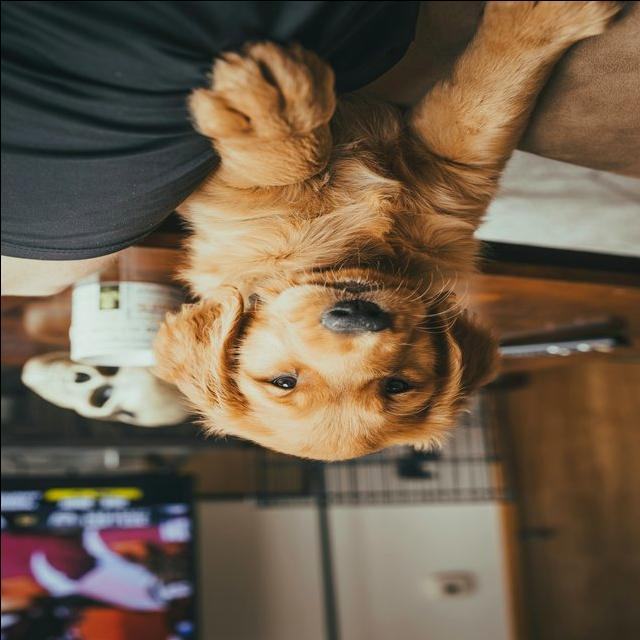retriever: (146, 2, 622, 463)
